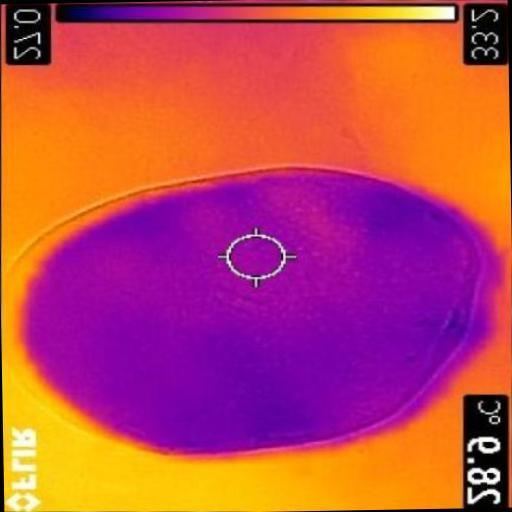alphanso: (7, 167, 487, 456)
